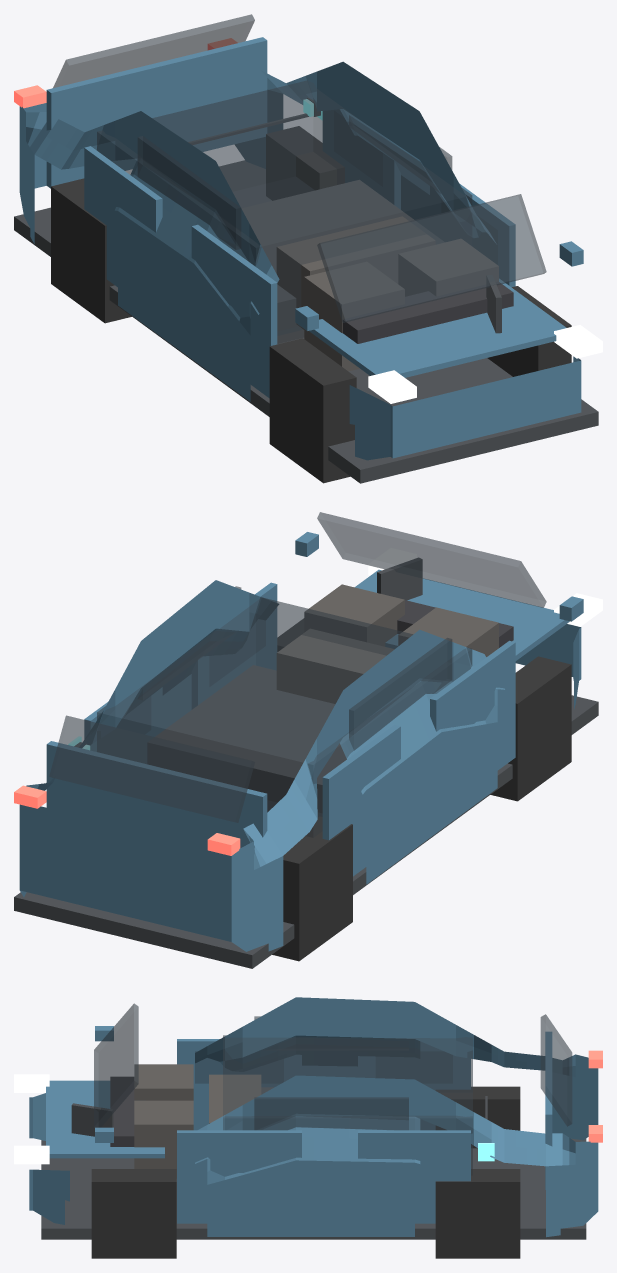
File: compact_crossover_lod2.63c0ca5906.glb
3 renders of one model, top to bottom at view 1: azimuth 30°, elevation 25°; view 2: azimuth 150°, elevation 25°; view 3: azimuth 270°, elevation 25°, orthographic. The views are drawn at different scales.
Parts seen in each view (by area): view 1: body_mesh, cab_mesh, windshield, liftgate_mesh, trim_mesh, tire_fr, frunk_mesh, wheel_well_mesh, tire_rr, seat_rear, door_fr_mesh, seat_r (+13 smaller); view 2: body_mesh, cab_mesh, wheel_well_mesh, liftgate_mesh, rear_glass, windshield, tire_rr, trim_mesh, tire_fr, seat_rear, door_fr_mesh, door_rr_mesh (+11 smaller); view 3: body_mesh, cab_mesh, tire_fl, trim_mesh, tire_rl, door_fl_mesh, door_rl_mesh, window_fixed_l, frunk_mesh, windshield, door_rr_mesh, seat_l (+12 smaller).
Part boxes in pixels (left/top/right/bottom): body_mesh: left=19, top=61, right=581, bottom=460; cab_mesh: left=97, top=80, right=472, bottom=335; windshield: left=317, top=194, right=546, bottom=322; liftgate_mesh: left=46, top=37, right=267, bottom=188; trim_mesh: left=14, top=160, right=598, bottom=483; tire_fr: left=269, top=338, right=356, bottom=483; frunk_mesh: left=309, top=279, right=566, bottom=377; wheel_well_mesh: left=241, top=180, right=444, bottom=343; tire_rr: left=51, top=178, right=131, bottom=323; seat_rear: left=276, top=216, right=435, bottom=329; door_fr_mesh: left=191, top=224, right=277, bottom=398; seat_r: left=304, top=262, right=404, bottom=371; body_mesh: left=19, top=580, right=581, bottom=951; cab_mesh: left=97, top=597, right=472, bottom=837; wheel_well_mesh: left=147, top=665, right=346, bottom=816; liftgate_mesh: left=46, top=741, right=267, bottom=847; rear_glass: left=49, top=715, right=254, bottom=822; windshield: left=317, top=512, right=546, bottom=607; tire_rr: left=272, top=816, right=352, bottom=961; trim_mesh: left=14, top=695, right=598, bottom=968; tire_fr: left=490, top=656, right=571, bottom=801; seat_rear: left=276, top=629, right=394, bottom=703; door_fr_mesh: left=430, top=640, right=515, bottom=770; door_rr_mesh: left=322, top=725, right=400, bottom=876; body_mesh: left=29, top=997, right=598, bottom=1237; cab_mesh: left=223, top=1035, right=472, bottom=1175; tire_fl: left=91, top=1169, right=176, bottom=1258; trim_mesh: left=41, top=1138, right=586, bottom=1239; tire_rl: left=435, top=1169, right=520, bottom=1258; door_fl_mesh: left=177, top=1130, right=301, bottom=1223; door_rl_mesh: left=358, top=1130, right=470, bottom=1223; window_fixed_l: left=254, top=1097, right=408, bottom=1130; frunk_mesh: left=46, top=1080, right=164, bottom=1158; windshield: left=94, top=1003, right=138, bottom=1127; door_rr_mesh: left=358, top=1042, right=470, bottom=1129; seat_l: left=134, top=1100, right=193, bottom=1178.
Size of the model in its own units: 2.11 by 1.62 by 4.95.
